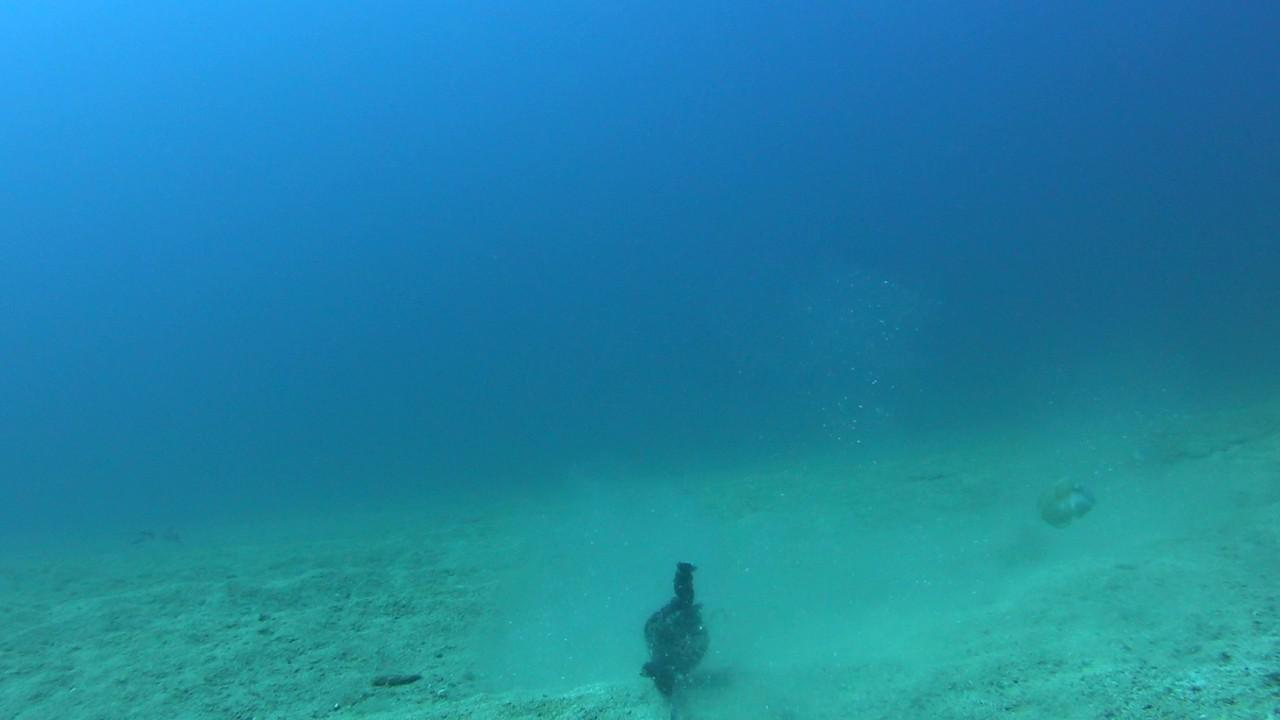myliobatis: (127, 518, 196, 554)
